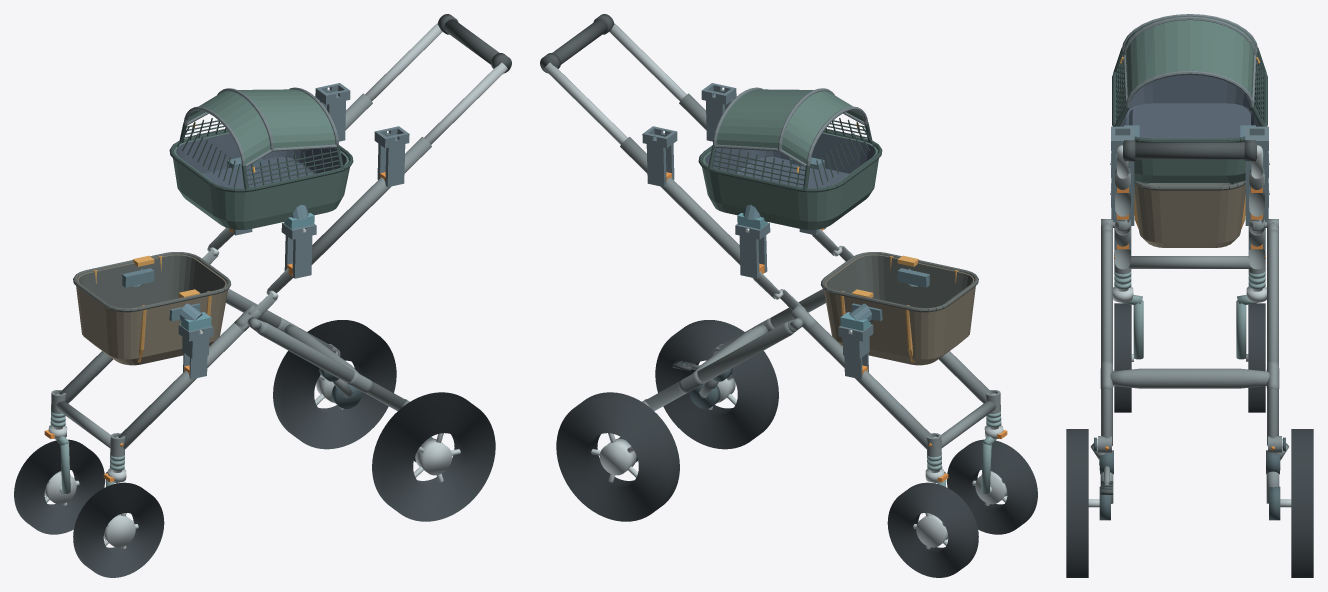
Rendered from D35_w380_state1_wheel_M.glb.
The picture shows the model from 3 angles, left to right: view 1: azimuth 30°, elevation 25°; view 2: azimuth 150°, elevation 25°; view 3: azimuth 270°, elevation 25°; orthographic projection. The views are drawn at different scales.
Visible parts, largest first — view 1: D35_Upper, D35_Lower, RL_tire.009, RR_tire.009, FL_tire.009, FR_tire.009, main_lower_-1, V46_rear_leg_-1.002, main_upper_-1, Universal_Cabin_Receiver_H_-1, Universal_Cabin_Receiver_M_-1, Universal_Cabin_Receiver_L_-1 (+13 smaller); view 2: D35_Upper, D35_Lower, RR_tire.009, RL_tire.009, FR_tire.009, FL_tire.009, main_lower_1, V46_rear_leg_1.002, main_upper_1, Universal_Cabin_Receiver_H_1, Universal_Cabin_Receiver_M_1, Universal_Cabin_Receiver_L_1 (+13 smaller); view 3: D35_Upper, D35_Lower, RL_tire.009, RR_tire.009, V46_rearbar.002, V46_rear_leg_1.002, V46_rear_leg_-1.002, round_handle.010, FL_tire.009, FR_tire.009, front_fixed_round_tube, Universal_Cabin_Receiver_H_1 (+11 smaller).
Part boxes in pixels (x1=…): D35_Upper: x1=169, y1=87, x2=353, y2=229; D35_Lower: x1=73, y1=252, x2=231, y2=365; RL_tire.009: x1=372, y1=392, x2=495, y2=521; RR_tire.009: x1=273, y1=320, x2=396, y2=449; FL_tire.009: x1=73, y1=482, x2=164, y2=577; FR_tire.009: x1=14, y1=439, x2=104, y2=534; main_lower_-1: x1=118, y1=323, x2=247, y2=449; V46_rear_leg_-1.002: x1=257, y1=321, x2=406, y2=411; main_upper_-1: x1=311, y1=137, x2=431, y2=264; Universal_Cabin_Receiver_H_-1: x1=374, y1=126, x2=409, y2=187; Universal_Cabin_Receiver_M_-1: x1=281, y1=222, x2=316, y2=278; Universal_Cabin_Receiver_L_-1: x1=178, y1=324, x2=213, y2=379; D35_Upper: x1=698, y1=87, x2=882, y2=229; D35_Lower: x1=820, y1=252, x2=978, y2=365; RR_tire.009: x1=556, y1=392, x2=679, y2=521; RL_tire.009: x1=655, y1=320, x2=778, y2=449; FR_tire.009: x1=887, y1=482, x2=978, y2=577; FL_tire.009: x1=947, y1=439, x2=1037, y2=534; main_lower_1: x1=804, y1=323, x2=933, y2=449; V46_rear_leg_1.002: x1=645, y1=321, x2=794, y2=411; main_upper_1: x1=620, y1=137, x2=740, y2=264; Universal_Cabin_Receiver_H_1: x1=642, y1=126, x2=677, y2=187; Universal_Cabin_Receiver_M_1: x1=735, y1=222, x2=770, y2=278; Universal_Cabin_Receiver_L_1: x1=838, y1=324, x2=873, y2=379; D35_Upper: x1=1112, y1=14, x2=1267, y2=182; D35_Lower: x1=1134, y1=180, x2=1245, y2=247; RL_tire.009: x1=1066, y1=429, x2=1088, y2=577; RR_tire.009: x1=1291, y1=429, x2=1313, y2=577; V46_rearbar.002: x1=1110, y1=368, x2=1269, y2=388; V46_rear_leg_1.002: x1=1267, y1=229, x2=1278, y2=445; V46_rear_leg_-1.002: x1=1101, y1=229, x2=1112, y2=445; round_handle.010: x1=1123, y1=142, x2=1256, y2=159; FL_tire.009: x1=1114, y1=303, x2=1131, y2=412; FR_tire.009: x1=1248, y1=303, x2=1265, y2=412; front_fixed_round_tube: x1=1129, y1=256, x2=1250, y2=268; Universal_Cabin_Receiver_H_1: x1=1245, y1=126, x2=1268, y2=193.
Bounding box in the file's own units: 1.15 × 1.06 × 0.4971.
